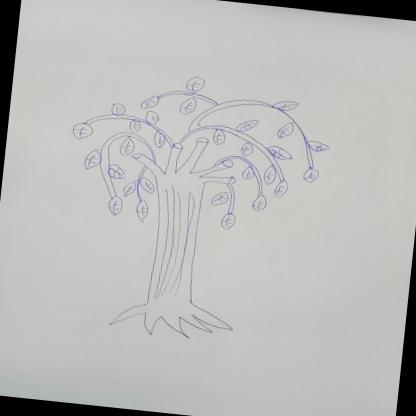branch_cut: (129, 130, 239, 190)
root_only: (108, 294, 235, 344)
trunk_bark: (144, 197, 204, 297)
